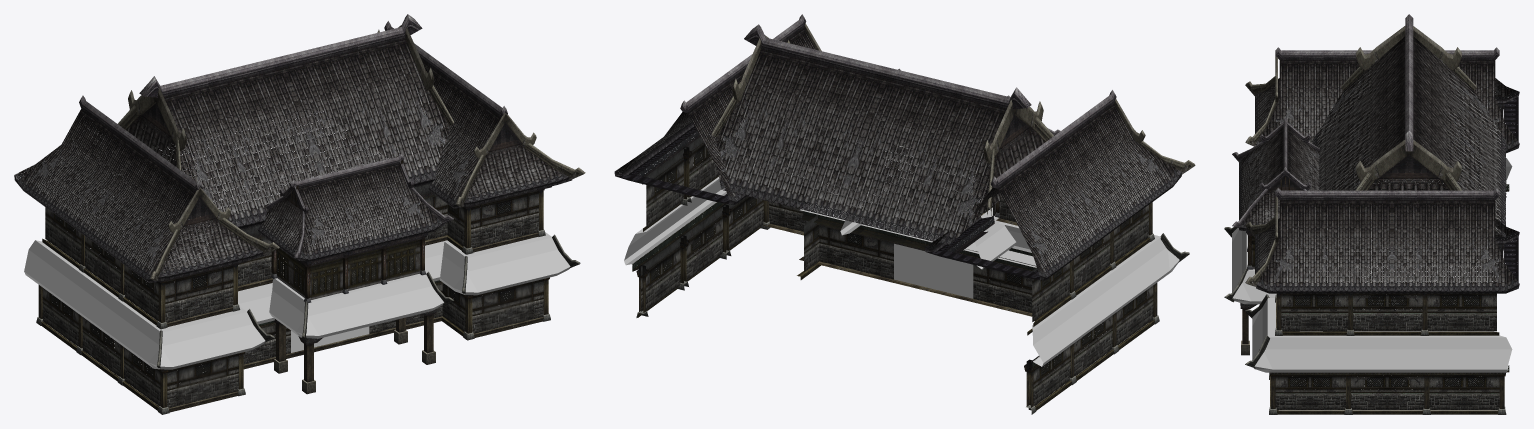
The model's file is ep-006-castle.fbx.
3 renders of one model, left to right at view 1: azimuth 30°, elevation 25°; view 2: azimuth 150°, elevation 25°; view 3: azimuth 270°, elevation 25°, orthographic. The views are drawn at different scales.
Visible parts, largest first — view 1: ep-006-castle-02; view 2: ep-006-castle-02; view 3: ep-006-castle-02.
Part boxes in pixels (left/top/right/bottom): ep-006-castle-02: left=14, top=14, right=585, bottom=414; ep-006-castle-02: left=614, top=14, right=1195, bottom=414; ep-006-castle-02: left=1224, top=14, right=1519, bottom=414.
Bounding box in the file's own units: 50.51 × 29.78 × 31.54.
